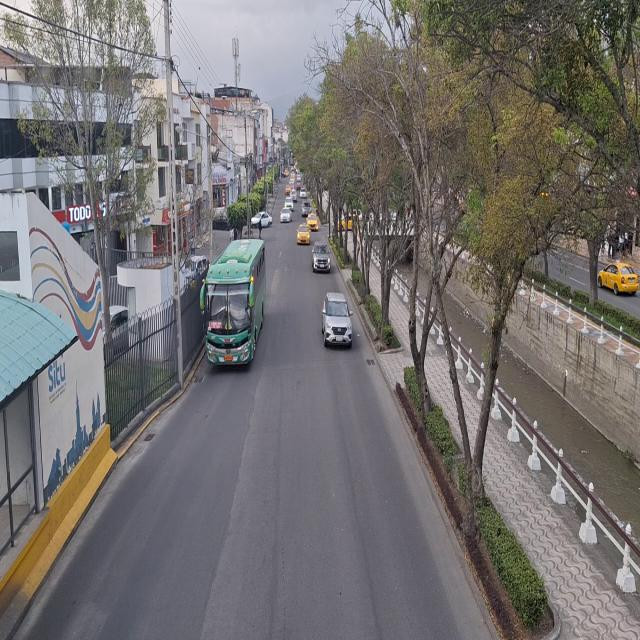BUS: (202, 260, 263, 366)
SUV: (322, 294, 351, 347), (312, 242, 330, 272)
